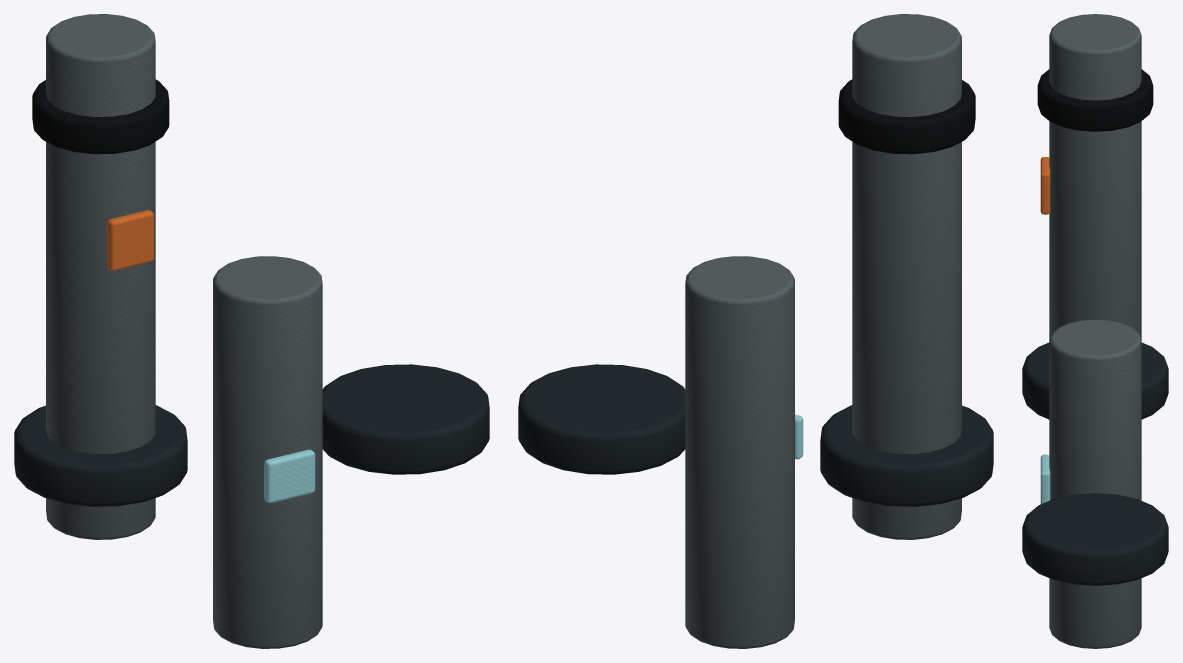
Rendered from PipeElbow.glb.
The picture shows the model from 3 angles, left to right: view 1: azimuth 30°, elevation 25°; view 2: azimuth 150°, elevation 25°; view 3: azimuth 270°, elevation 25°; orthographic projection. The views are drawn at different scales.
Visible parts, largest first — view 1: PipeElbow_Mesh; view 2: PipeElbow_Mesh; view 3: PipeElbow_Mesh.
Boxes of the visible parts, x1=… form: PipeElbow_Mesh: x1=14, y1=14, x2=489, y2=648; PipeElbow_Mesh: x1=518, y1=14, x2=993, y2=648; PipeElbow_Mesh: x1=1022, y1=14, x2=1168, y2=648.
Bounding box in the file's own units: 1.14 × 1.52 × 0.38.
Materials: 5 (5 with a texture image).
